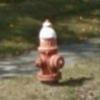a fire hydrant: (36, 20, 65, 82)
